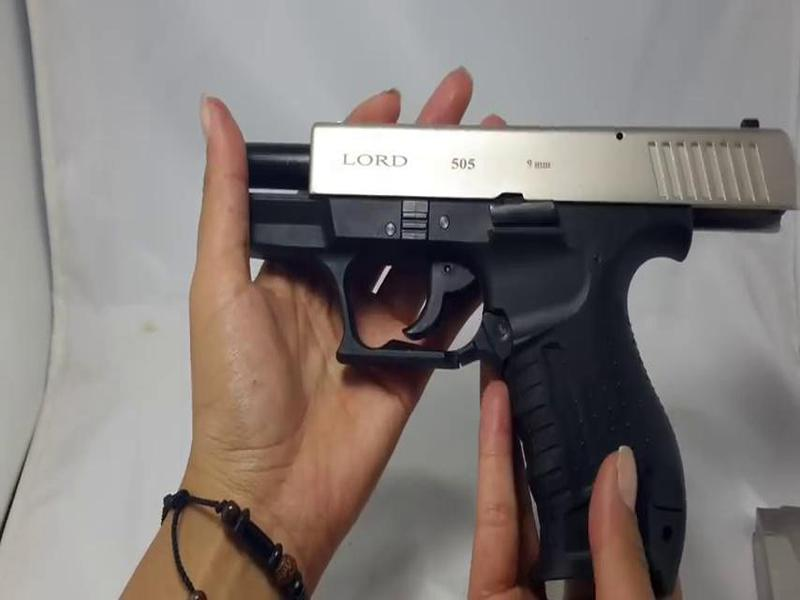Pistola: (153, 94, 800, 582)
